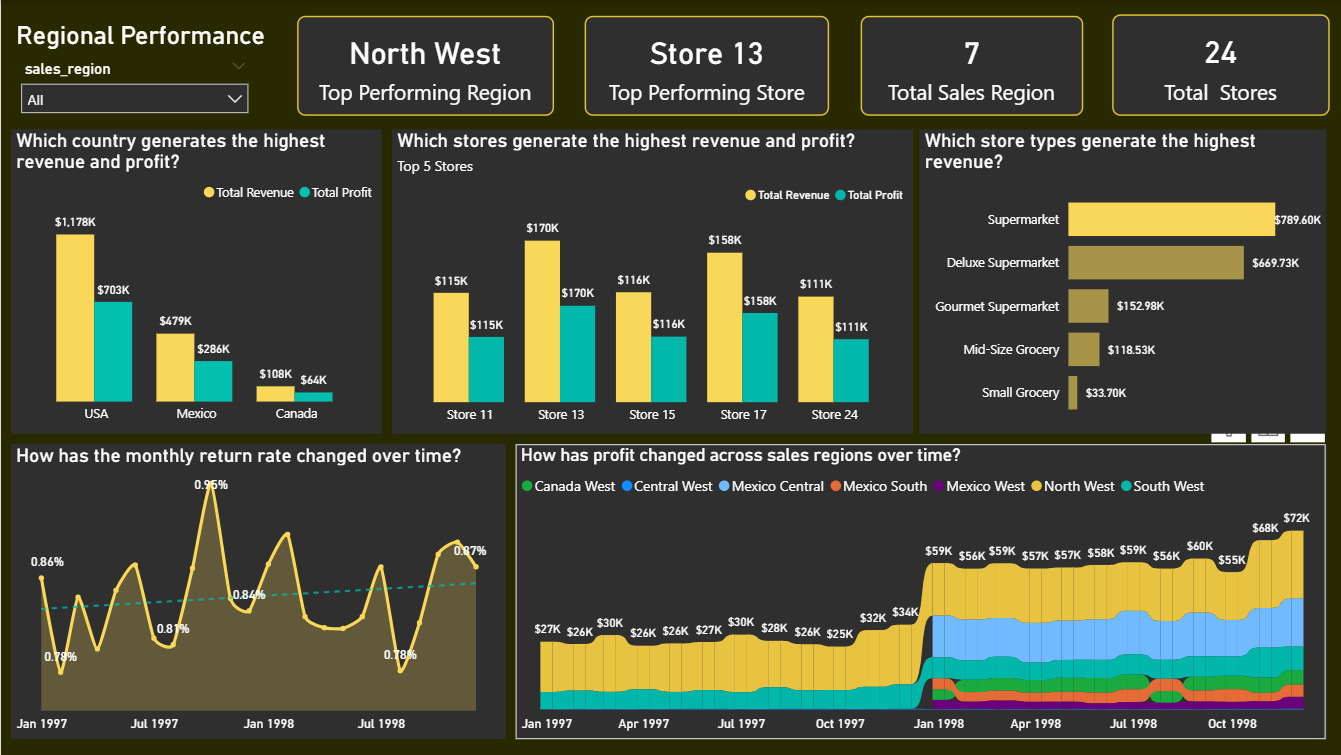

The dashboard page shown, as its layout file describes it:
{"tool":"powerbi","page":{"name":" Regional Performance","canvas":[1280,720],"ordinal":3},"visuals":[{"type":"clusteredColumnChart","title":"Which stores generate the highest revenue and profit?","fields":{"Category":["Stores.store_name"],"Y":["Measure.Total Revenue","Measure.Total Profit"]},"box":[372.5,122.9,496.7,289.7],"z":0},{"type":"card","fields":{"Values":["Measure.Top Performing Region"]},"box":[282.2,15.1,244.6,95.3],"z":1000},{"type":"clusteredColumnChart","title":"Which country generates the highest revenue and profit?","fields":{"Category":["Stores.store_country"],"Y":["Measure.Total Revenue","Measure.Total Profit"]},"box":[10,122.9,353.7,289.7],"z":2000},{"type":"ribbonChart","title":"How has profit changed across sales regions over time?","fields":{"Series":["Regions.sales_region"],"Category":["Calender.Start of Month"],"Y":["Measure.Total Profit"]},"box":[489.8,423.1,773.8,281.1],"z":3000},{"type":"card","fields":{"Values":["Count(Regions.sales_region)"]},"box":[819,15.1,212,95.3],"z":4000},{"type":"card","fields":{"Values":["Measure.Top Performing Store"]},"box":[555.6,15.1,233.3,95.3],"z":5000},{"type":"card","fields":{"Values":["Count(Stores.store_name)"]},"box":[1058.6,13.8,207,96.6],"z":6000},{"type":"clusteredBarChart","title":"Which store types generate the highest revenue?","fields":{"Category":["Stores.store_type"],"Y":["Measure.Total Revenue"]},"box":[875.5,122.9,387.6,289.7],"z":7000},{"type":"lineChart","title":"How has the monthly return rate changed over time?","fields":{"Category":["Calender.Start of Month"],"Y":["Measure.Return Rate"]},"box":[9.9,423.1,471.4,281.1],"z":8000},{"type":"textbox","box":[10,15.1,262.1,41.4],"z":9000},{"type":"slicer","fields":{"Values":["Regions.sales_region"]},"box":[10,51.4,235.8,59],"z":10000}]}

Visuals, with their boxes in screenshot pixels (x1, y1, x2, y2), scaled from the page's 1280x720 canvas onto the 1341x755 screenshot:
"Which stores generate the highest revenue and profit?" clusteredColumnChart: region(390, 129, 911, 433)
card - Measure.Top Performing Region: region(296, 16, 552, 116)
"Which country generates the highest revenue and profit?" clusteredColumnChart: region(10, 129, 381, 433)
"How has profit changed across sales regions over time?" ribbonChart: region(513, 444, 1324, 738)
card - Count(Regions.sales_region): region(858, 16, 1080, 116)
card - Measure.Top Performing Store: region(582, 16, 826, 116)
card - Count(Stores.store_name): region(1109, 14, 1326, 116)
"Which store types generate the highest revenue?" clusteredBarChart: region(917, 129, 1323, 433)
"How has the monthly return rate changed over time?" lineChart: region(10, 444, 504, 738)
textbox: region(10, 16, 285, 59)
slicer - Regions.sales_region: region(10, 54, 258, 116)
